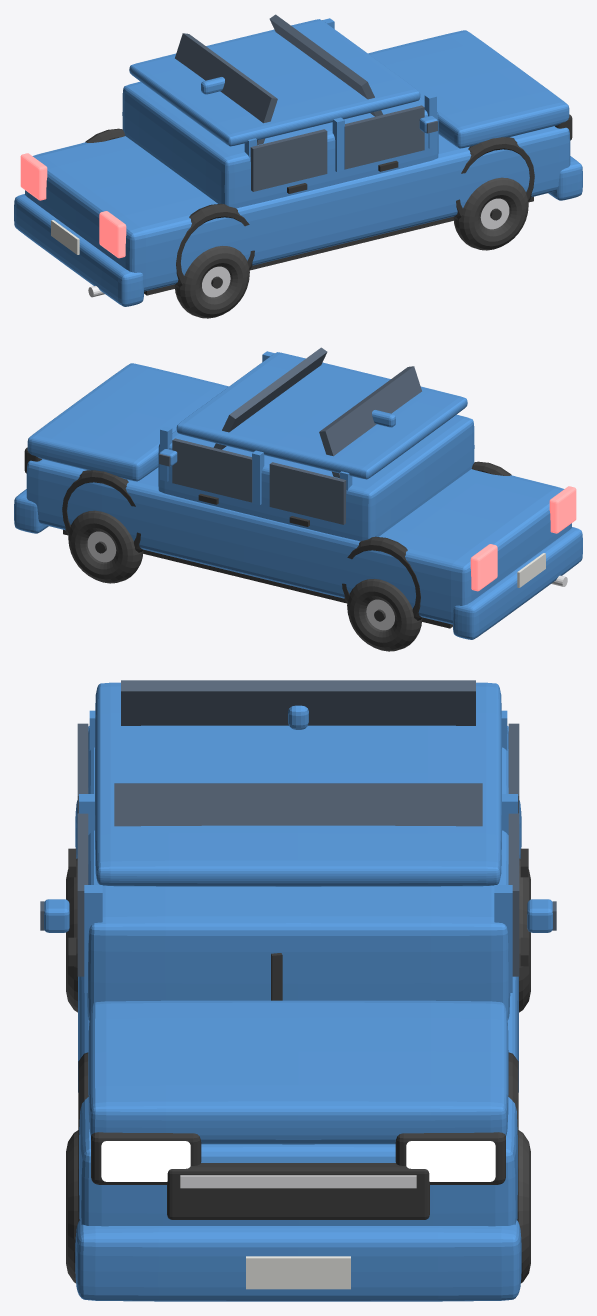
Rendered from jp_car_blue.glb.
3 renders of one model, top to bottom at view 1: azimuth 30°, elevation 25°; view 2: azimuth 150°, elevation 25°; view 3: azimuth 270°, elevation 25°, orthographic. The views are drawn at different scales.
Visible parts, largest first — view 1: LowerBody, Roof, Hood, Cabin, BumperR, SideGlassF_-0.82, SideGlassR_-0.82, Tire3, Tire1, RearGlass, Windshield, Arch3 (+10 smaller); view 2: LowerBody, Roof, Hood, Cabin, BumperR, SideGlassF_0.82, SideGlassR_0.82, Tire2, Tire0, RearGlass, Windshield, Arch2 (+10 smaller); view 3: Hood, Roof, Cabin, BumperF, LowerBody, RearGlass, Windshield, Grille, PlateF, HeadLens_L, HeadLens_R, GrilleBar (+14 smaller).
Boxes of the visible parts, x1=… form: LowerBody: x1=25, y1=126, x2=570, y2=291; Roof: x1=129, y1=19, x2=420, y2=146; Hood: x1=368, y1=30, x2=569, y2=148; Cabin: x1=122, y1=81, x2=438, y2=208; BumperR: x1=14, y1=194, x2=143, y2=306; SideGlassF_-0.82: x1=344, y1=105, x2=424, y2=169; SideGlassR_-0.82: x1=250, y1=129, x2=327, y2=191; Tire3: x1=174, y1=246, x2=249, y2=318; Tire1: x1=453, y1=177, x2=528, y2=250; RearGlass: x1=175, y1=33, x2=277, y2=145; Windshield: x1=269, y1=14, x2=383, y2=116; Arch3: x1=174, y1=203, x2=254, y2=287; LowerBody: x1=26, y1=459, x2=571, y2=624; Roof: x1=176, y1=352, x2=467, y2=479; Hood: x1=27, y1=363, x2=228, y2=481; Cabin: x1=158, y1=414, x2=474, y2=541; BumperR: x1=453, y1=527, x2=582, y2=639; SideGlassF_0.82: x1=172, y1=438, x2=252, y2=502; SideGlassR_0.82: x1=269, y1=462, x2=346, y2=524; Tire2: x1=347, y1=579, x2=422, y2=651; Tire0: x1=68, y1=510, x2=143, y2=583; RearGlass: x1=319, y1=366, x2=421, y2=478; Windshield: x1=213, y1=347, x2=327, y2=449; Arch2: x1=342, y1=536, x2=422, y2=620; Hood: x1=88, y1=1000, x2=508, y2=1144; Roof: x1=95, y1=682, x2=501, y2=886; Cabin: x1=86, y1=728, x2=510, y2=1020; BumperF: x1=75, y1=1220, x2=521, y2=1301; LowerBody: x1=78, y1=726, x2=518, y2=1226; RearGlass: x1=121, y1=680, x2=475, y2=725; Windshield: x1=114, y1=783, x2=482, y2=826; Grille: x1=167, y1=1163, x2=429, y2=1219; PlateF: x1=246, y1=1256, x2=350, y2=1289; HeadLens_L: x1=406, y1=1141, x2=495, y2=1181; HeadLens_R: x1=101, y1=1141, x2=190, y2=1181; GrilleBar: x1=180, y1=1175, x2=416, y2=1188.
Bounding box in the file's own units: 4.13 × 1.66 × 1.97.
